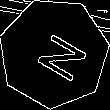N_NW: (23, 23, 86, 83)
